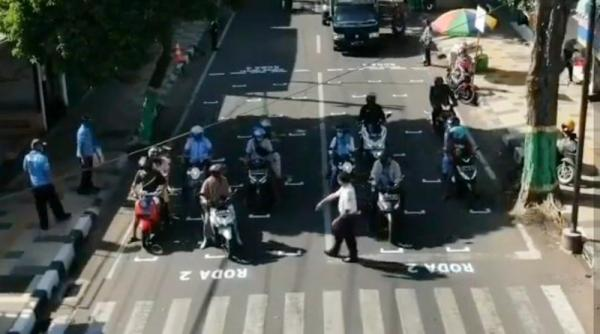motorbike: (197, 162, 241, 259), (243, 118, 284, 213), (136, 145, 173, 248), (369, 149, 405, 248), (440, 119, 477, 200), (355, 89, 392, 165), (183, 124, 212, 217), (327, 127, 358, 200), (426, 79, 461, 138)
